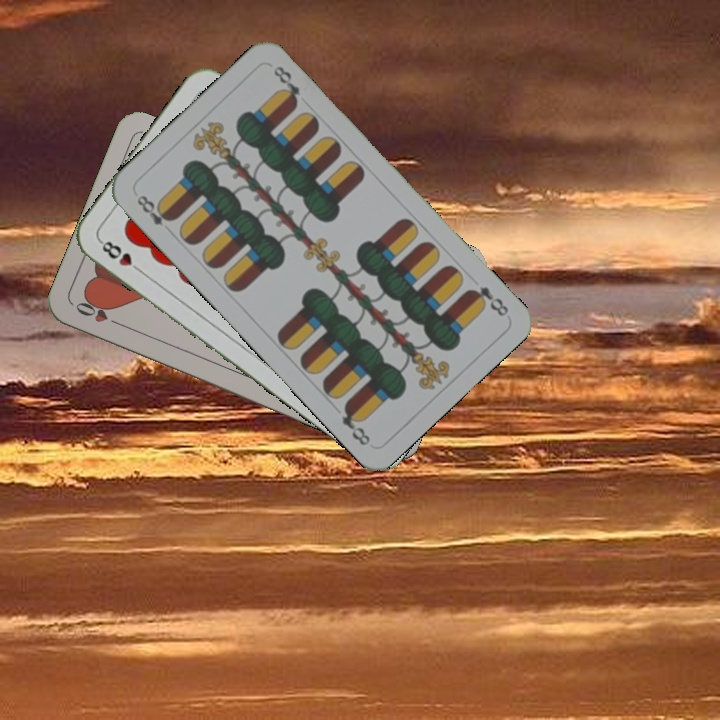E8: (132, 190, 177, 237), (464, 282, 511, 319)
H8: (96, 236, 147, 277)
HO: (71, 297, 126, 330)
